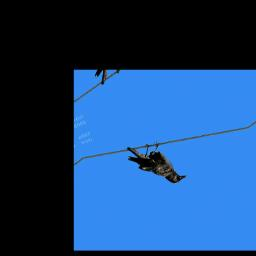Crow: (123, 129, 190, 198)
